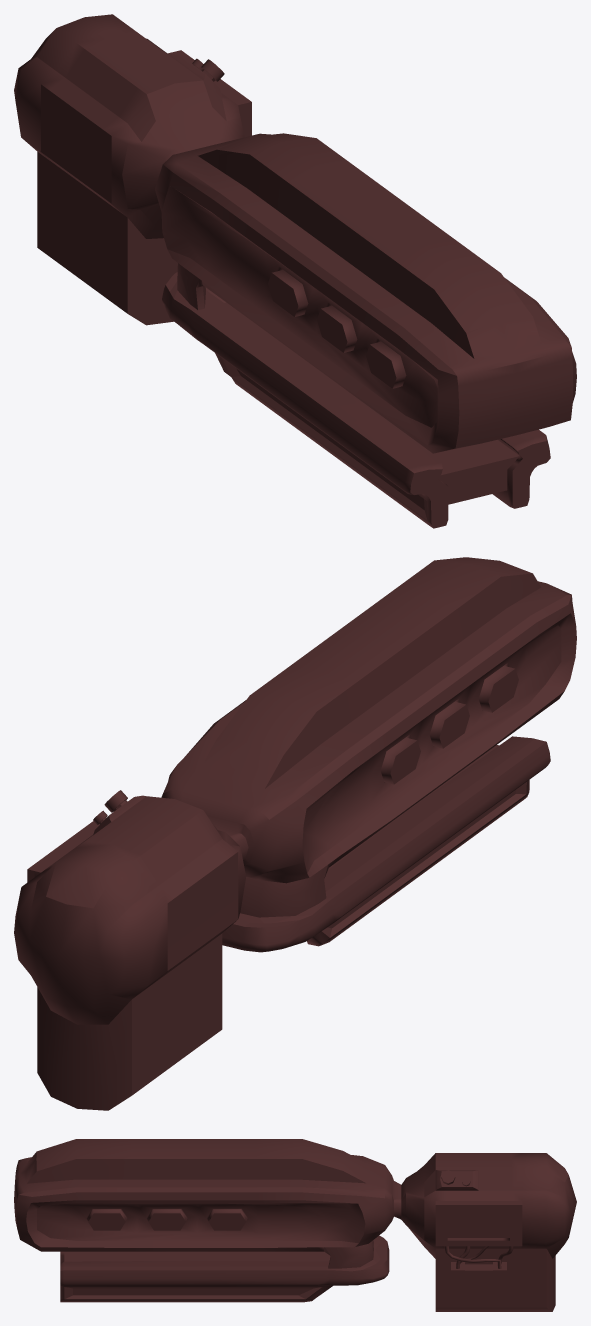
The model's file is GUn.fbx.
The picture shows the model from 3 angles, top to bottom: view 1: azimuth 30°, elevation 25°; view 2: azimuth 150°, elevation 25°; view 3: azimuth 270°, elevation 25°; orthographic projection. The views are drawn at different scales.
Visible parts, largest first — view 1: pCube17; view 2: pCube17; view 3: pCube17.
Boxes of the visible parts, bbox=[...] form: pCube17: bbox=[14, 14, 576, 528]; pCube17: bbox=[14, 557, 576, 1110]; pCube17: bbox=[14, 1139, 576, 1311].
Bounding box in the file's own units: 0.7618 × 1.16 × 3.73.
